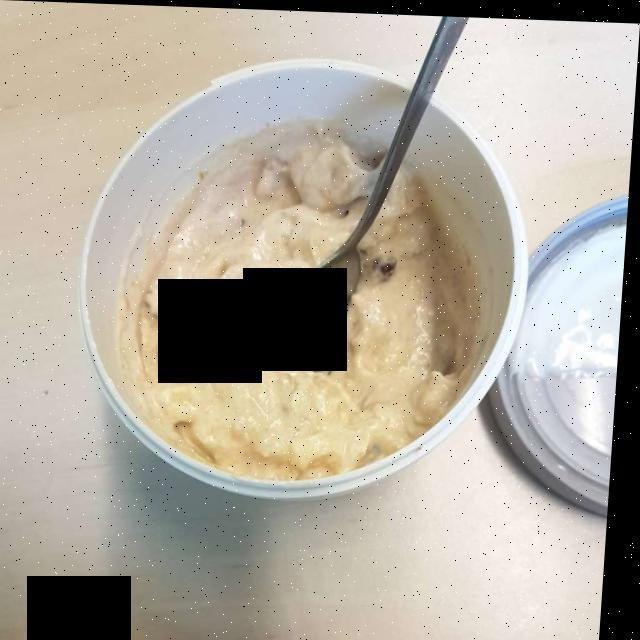walnut: (368, 243, 397, 284)
yogurt: (134, 124, 488, 474)
